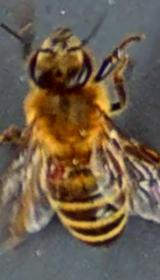varroa_mite: (38, 147, 70, 192)
